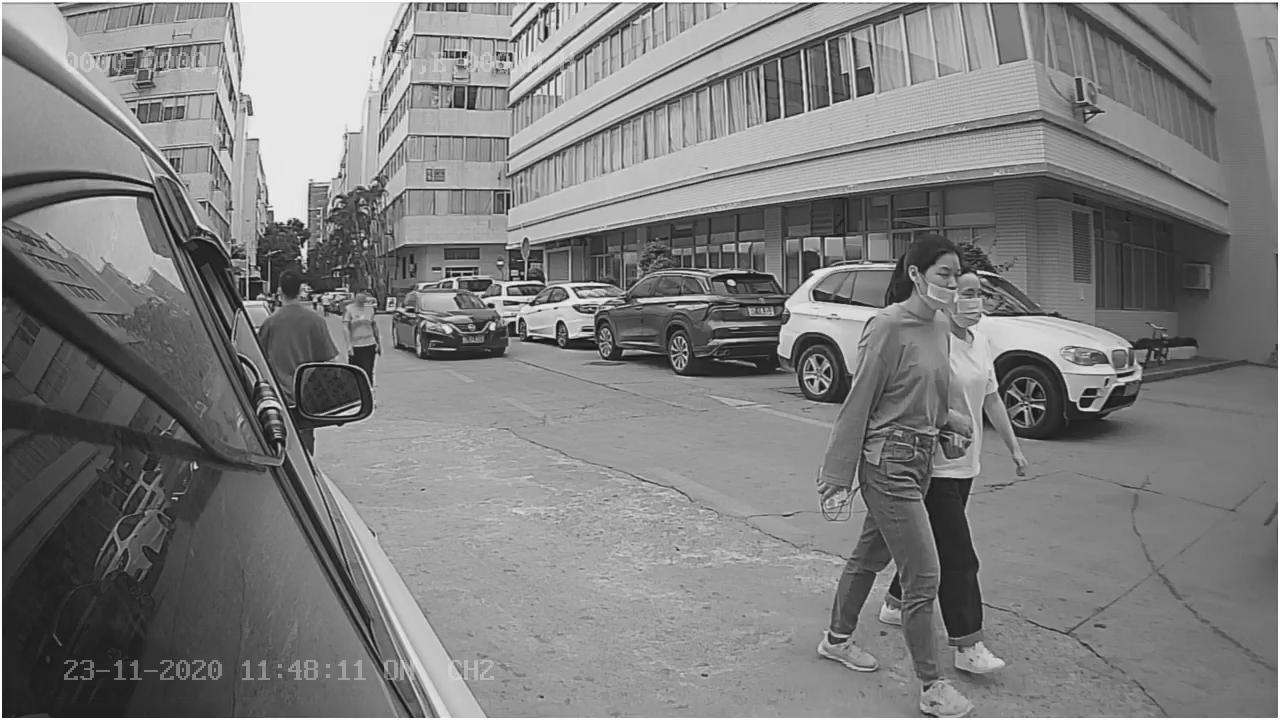person: (820, 221, 965, 713)
